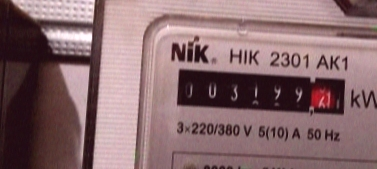0: (207, 81, 219, 101), (184, 80, 194, 99)
1: (251, 81, 262, 100)
3: (229, 83, 240, 103)
6: (317, 94, 328, 109)
9: (272, 82, 284, 103), (294, 86, 305, 104)
screen: (169, 58, 355, 126)
